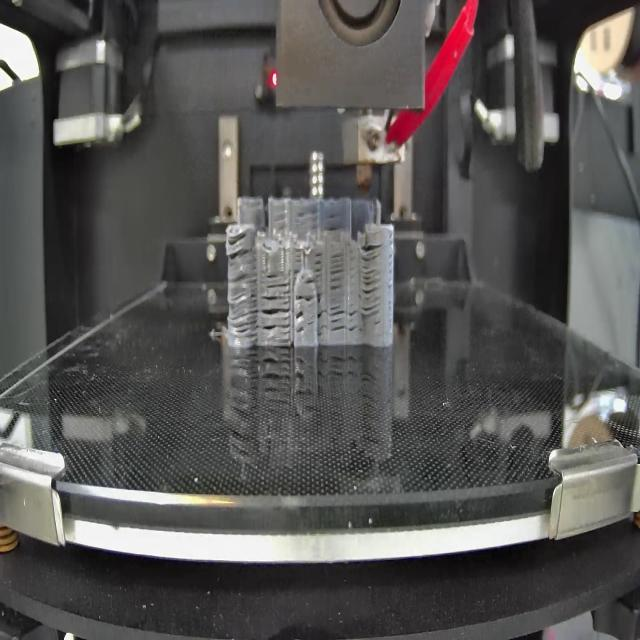cracks: (227, 270, 259, 338), (359, 244, 383, 319), (262, 295, 290, 333), (331, 306, 358, 337), (225, 234, 253, 260), (329, 253, 345, 295), (265, 270, 290, 289), (296, 292, 322, 306), (316, 311, 328, 336), (293, 313, 305, 336), (293, 248, 302, 274), (314, 254, 323, 276), (302, 278, 315, 288), (327, 225, 344, 231)
